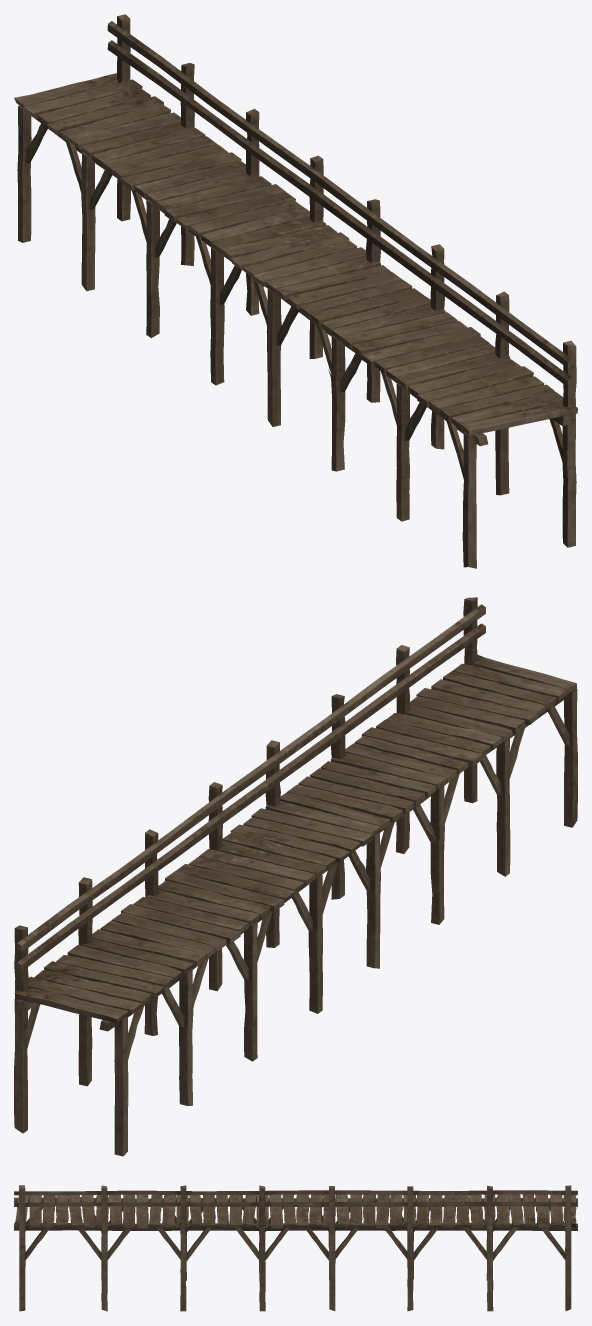
The model's file is old-bridge.zfix-v14.lod0.glb.
The picture shows the model from 3 angles, top to bottom: view 1: azimuth 30°, elevation 25°; view 2: azimuth 150°, elevation 25°; view 3: azimuth 270°, elevation 25°; orthographic projection. The views are drawn at different scales.
Parts seen in each view (by area): view 1: defaultMaterial; view 2: defaultMaterial; view 3: defaultMaterial.
Boxes of the visible parts, bbox=[...] form: defaultMaterial: bbox=[14, 14, 577, 568]; defaultMaterial: bbox=[14, 597, 577, 1156]; defaultMaterial: bbox=[14, 1185, 577, 1311].
Size of the model in its own units: 2.63 by 4.59 by 19.
1 material, 1 textured.
